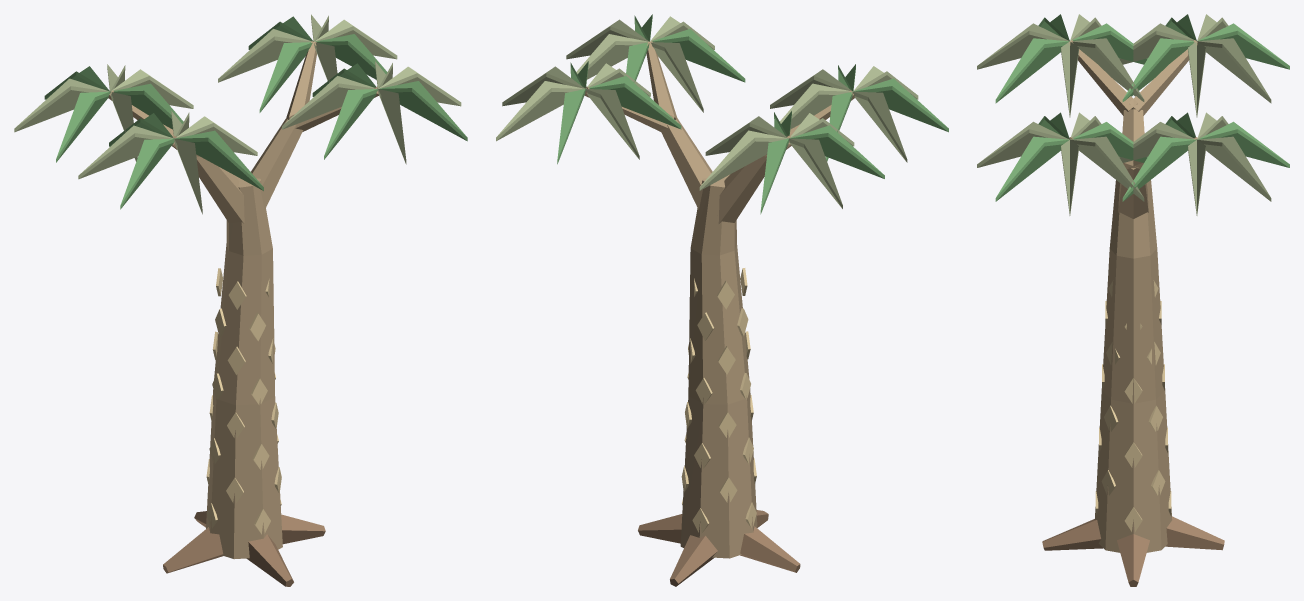
The model's file is lepidodendron-grand-ledge-131743.9567892ffc7c.glb.
3 views of the same model, side by side, from view 1: azimuth 30°, elevation 25°; view 2: azimuth 150°, elevation 25°; view 3: azimuth 270°, elevation 25° (orthographic).
Visible parts, largest first — view 1: lepidodendron-grand-ledge-131743; view 2: lepidodendron-grand-ledge-131743; view 3: lepidodendron-grand-ledge-131743.
Part boxes in pixels (x1=…): lepidodendron-grand-ledge-131743: x1=14, y1=14, x2=467, y2=586; lepidodendron-grand-ledge-131743: x1=496, y1=14, x2=948, y2=586; lepidodendron-grand-ledge-131743: x1=977, y1=14, x2=1289, y2=586.
Bounding box in the file's own units: 0.7976 × 1 × 0.6026.
